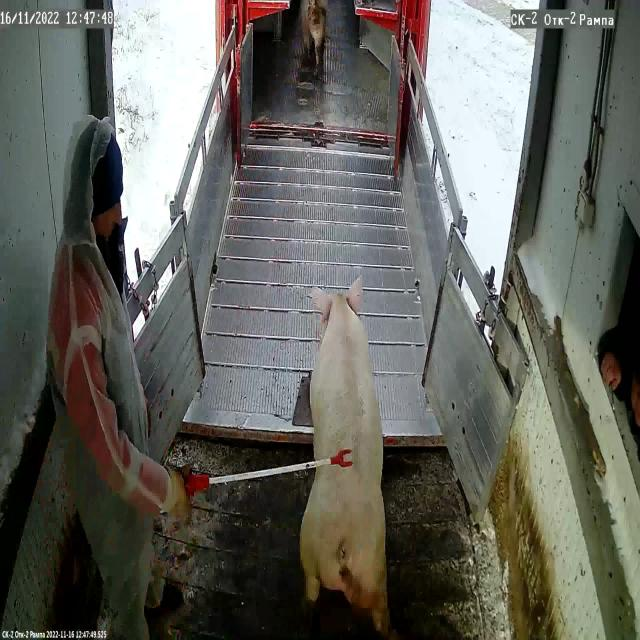pig: (300, 276, 389, 640)
